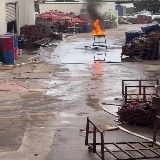fire: (93, 19, 105, 35)
